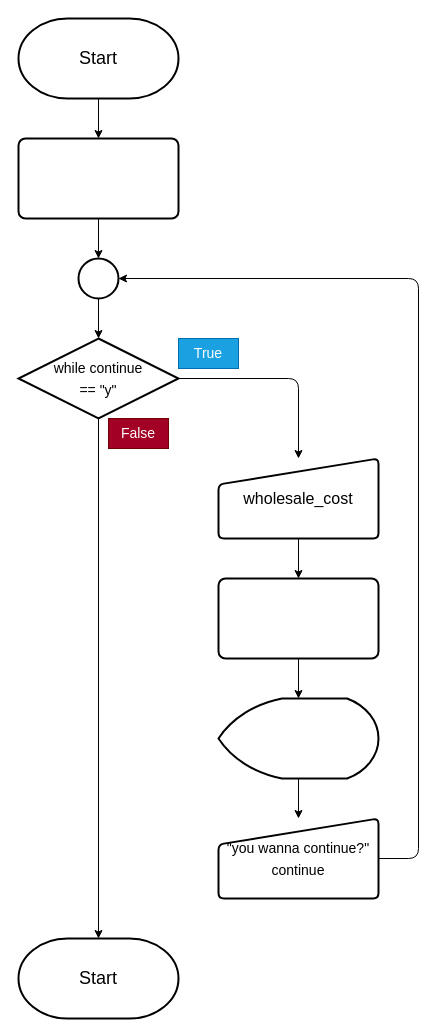
Some shapes in this 444 by 1036 pixel diagram are drawn without their labels. Here are the shapes that lost their labels. From the top down, the centre of each, then its label:
(98,178): again = "y"
(298,618): retail_price = wholesale_cost * 2.5
(298,738): "retail price is" retail_price
